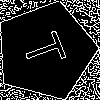T: (20, 26, 76, 71)
